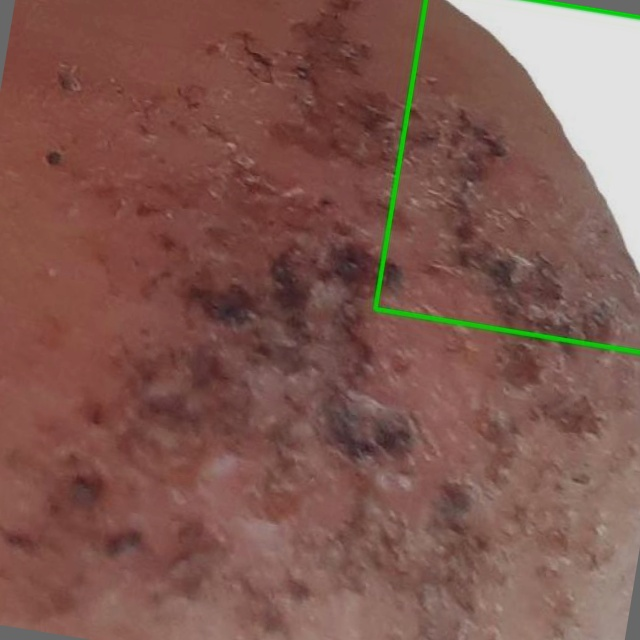Contact Dermatitis: (374, 0, 639, 350)
